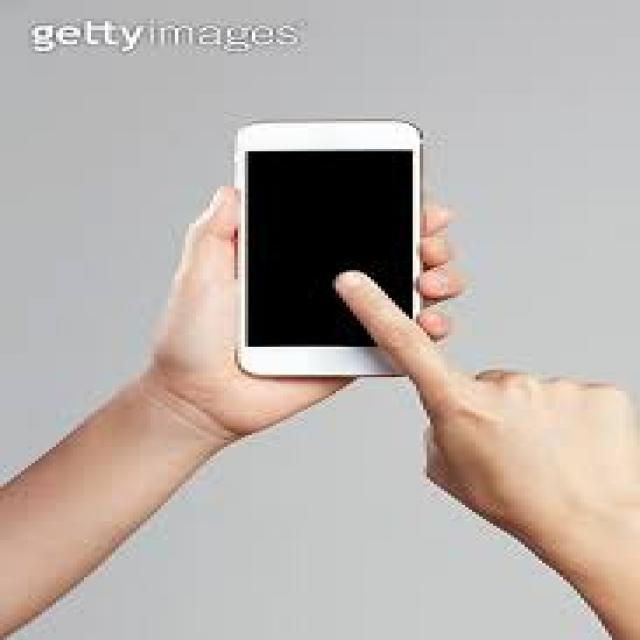Phone: (233, 120, 422, 380)
